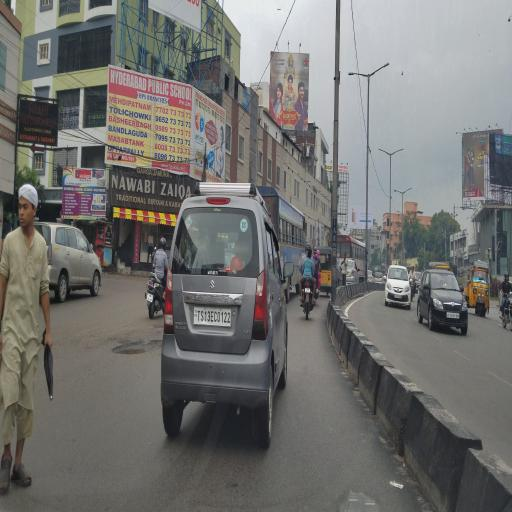street_light_0: (340, 56, 366, 84), (368, 56, 394, 82), (390, 140, 404, 156), (373, 142, 387, 156), (388, 184, 402, 196), (402, 184, 414, 196)
